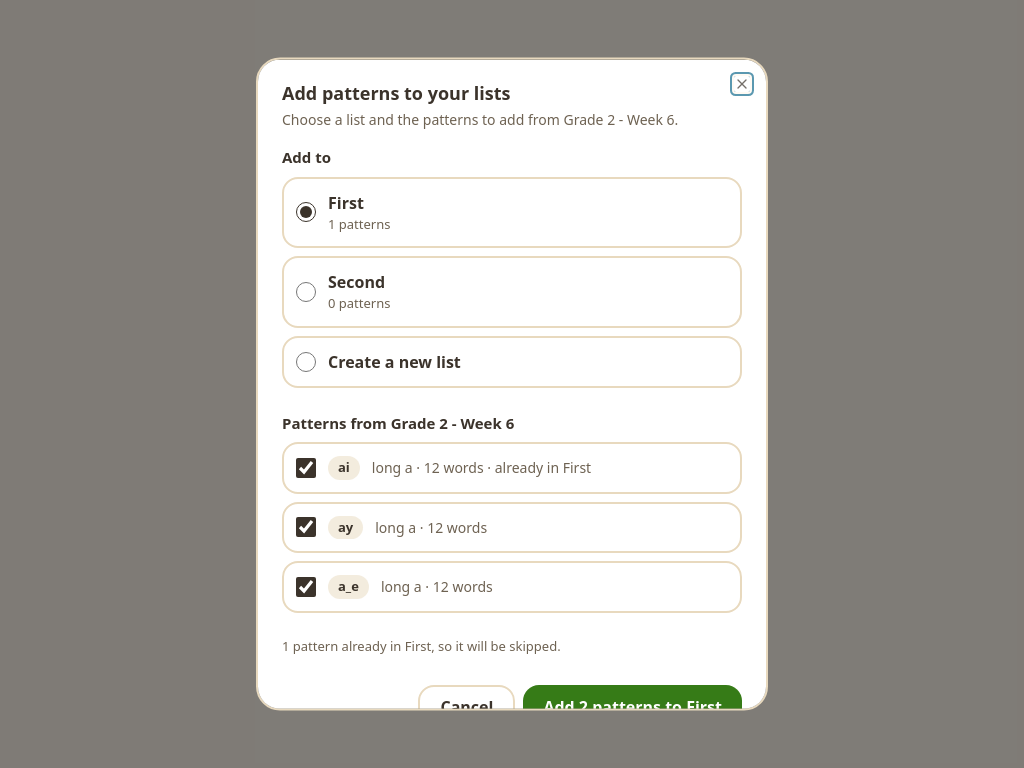
Test: PullPatternsModal › switches the target to another existing list
The width and height of the screenshot is (1024, 768).
Expected: the text "Second" is shown, [328,271,385,293]
# Switch the radio from the default (First) to Second.
Click the radio button labelled "Second 0 patterns". click: (306, 291)
box: [296,281,316,301]
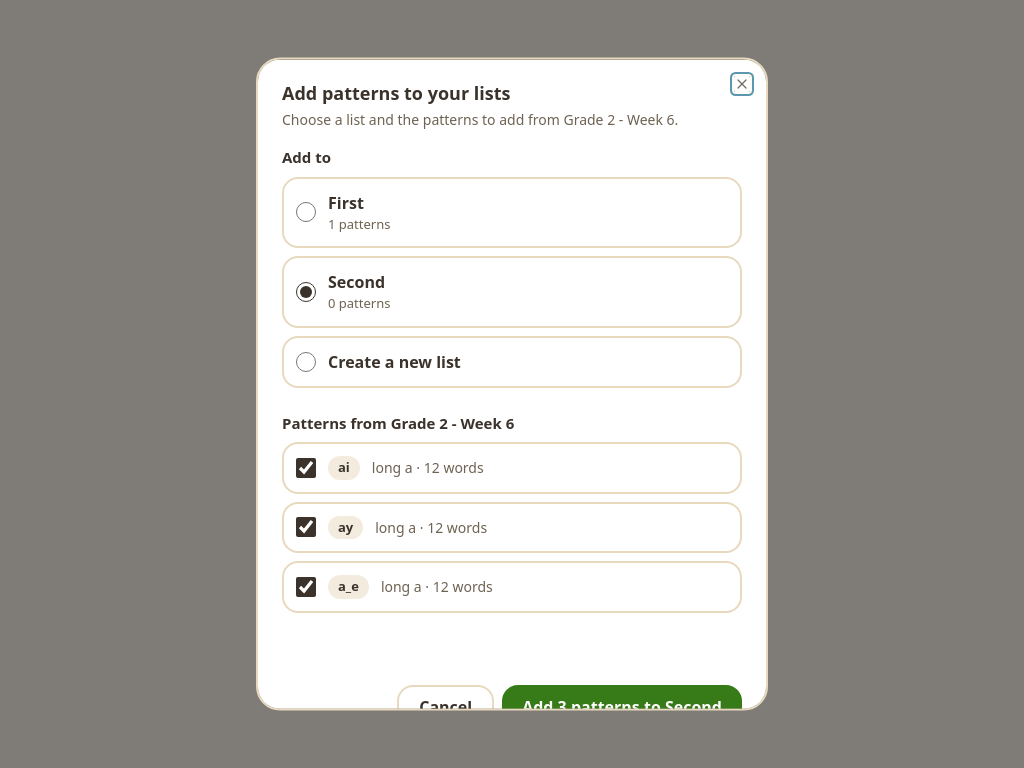
Click the button "Add 3 patterns to Second". click: (622, 706)
box: [502,684,742,728]
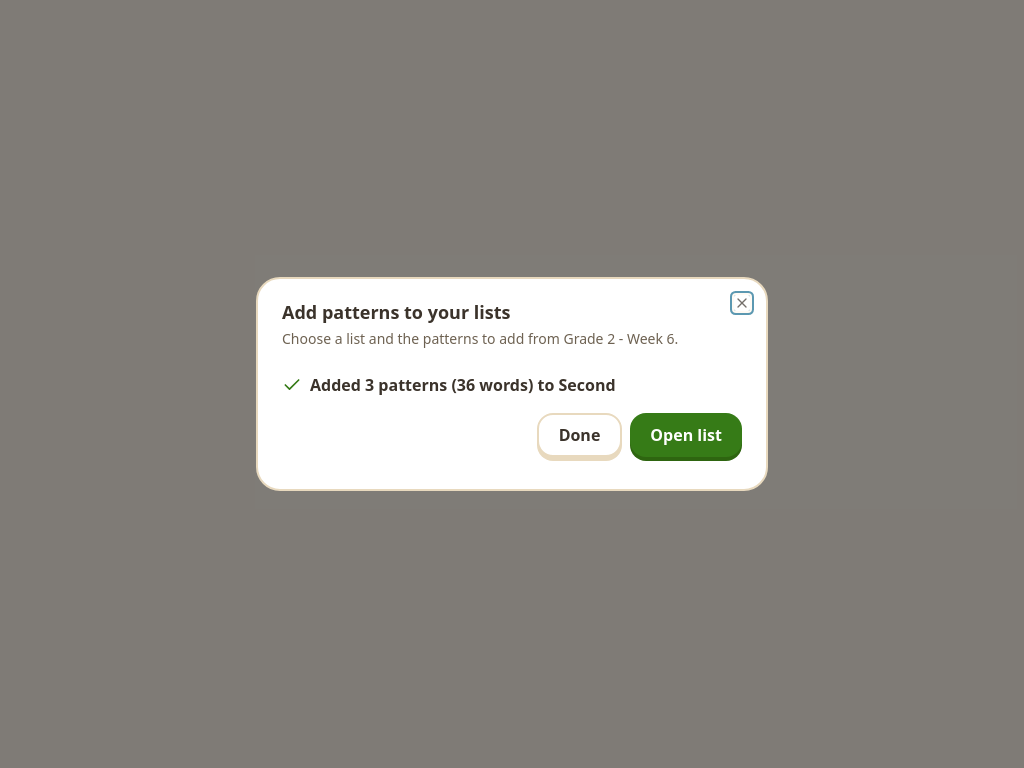
Expected: the message shows "Added", [310,374,365,396]
Expected: the message shows "Second", [558,374,616,396]
